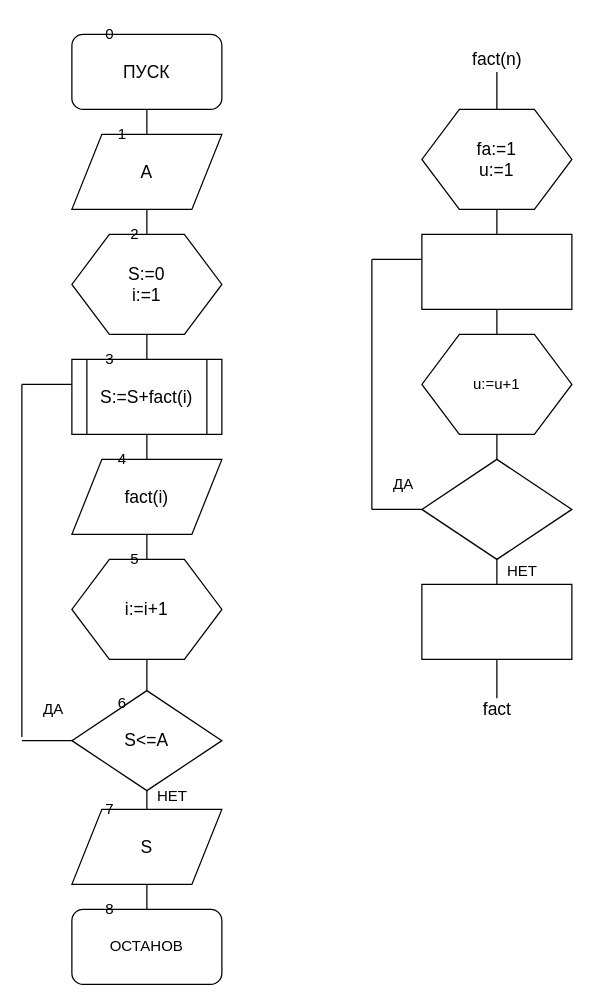
This 594x1006 diagram has some shape labels left out. Each missing label, with the centre of its shape:
fa:=fa*u: (496,271)
fact:=fa: (496,621)
u<=n: (496,508)
